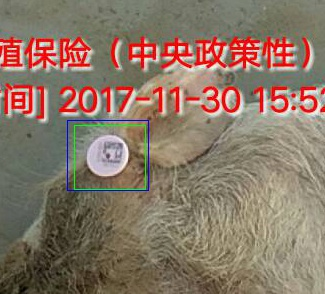text: (74, 125, 145, 189)
